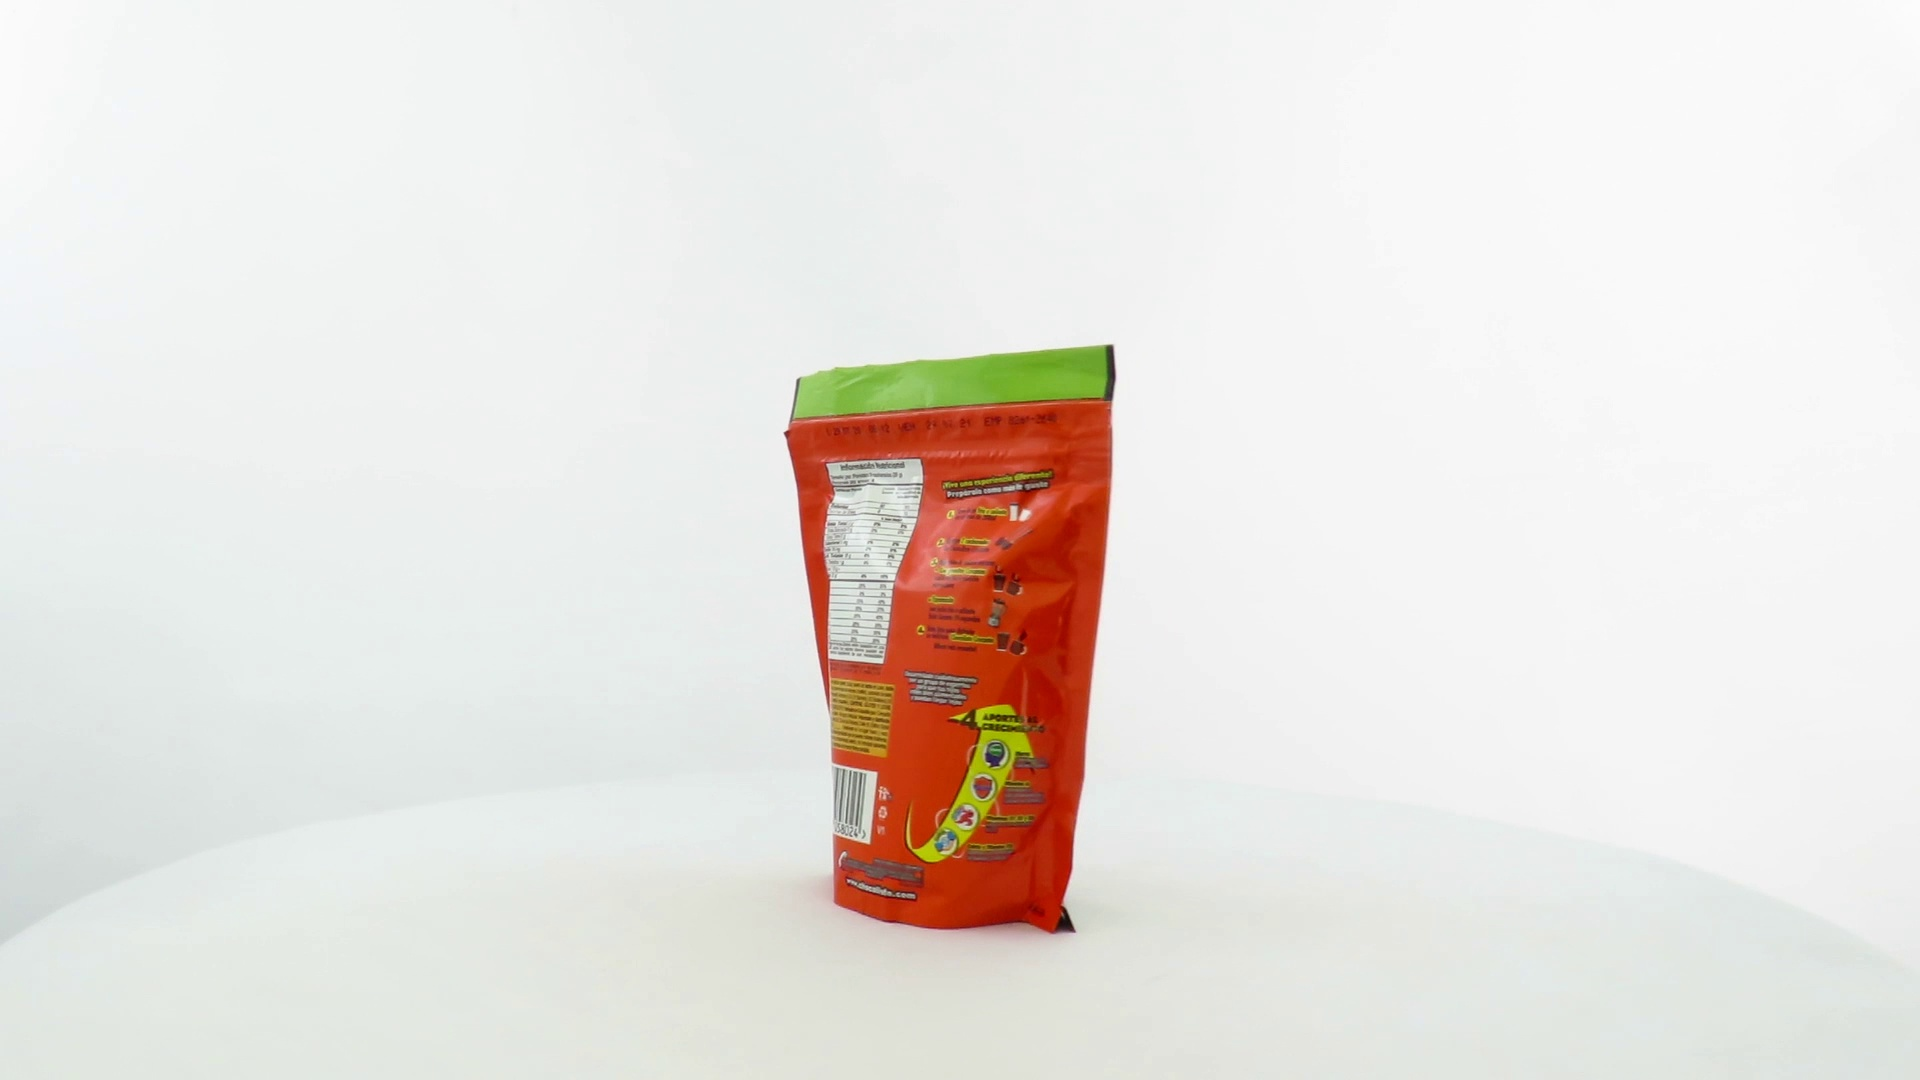COL0170102DYP10000: (778, 339, 1122, 942)
